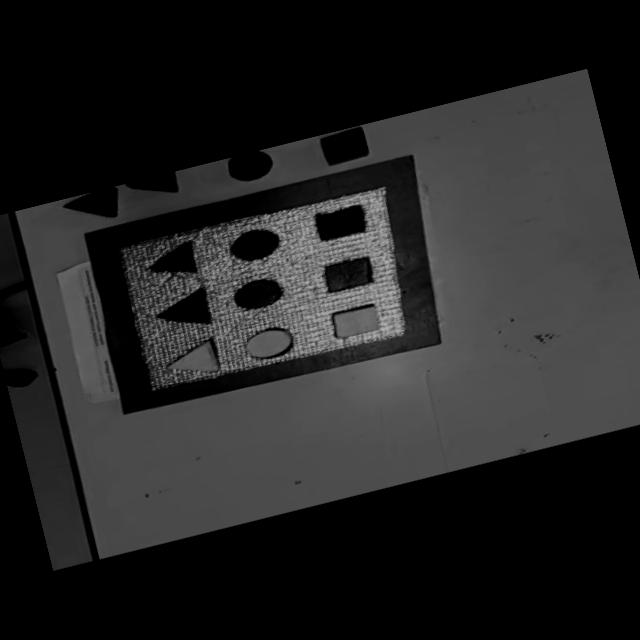bcircle: (224, 147, 276, 186)
bcube: (318, 124, 373, 168)
btriangle: (128, 170, 180, 203)
mtcircle: (226, 224, 282, 266)
mtcube: (312, 202, 370, 244)
mttriangle: (150, 286, 216, 337), (142, 239, 202, 285)
rcircle: (230, 276, 282, 313)
rcube: (320, 254, 378, 295)
rtriangle: (61, 185, 126, 229)
wb: (115, 180, 422, 399)
ycircle: (242, 324, 296, 364)
ycube: (328, 302, 383, 342)
ytriangle: (160, 338, 222, 384)
